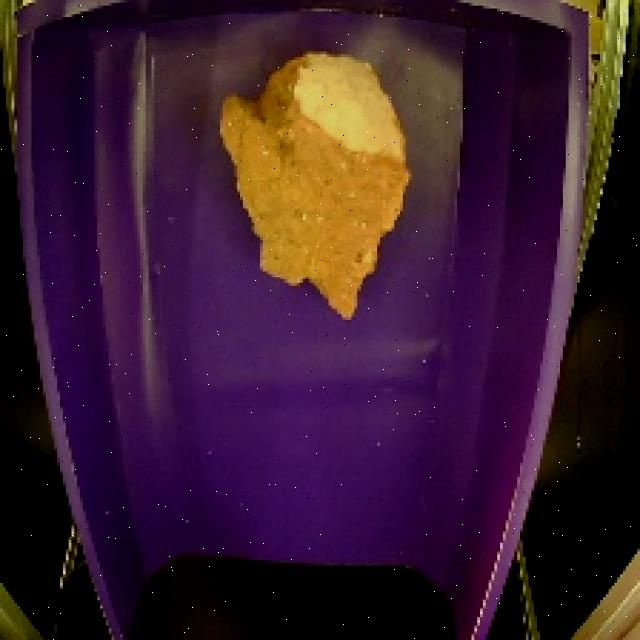brick: (210, 48, 417, 335)
